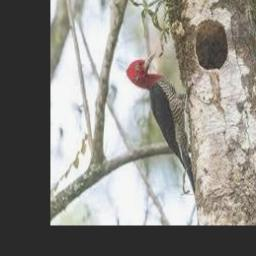Woodpecker: (127, 48, 196, 194)
